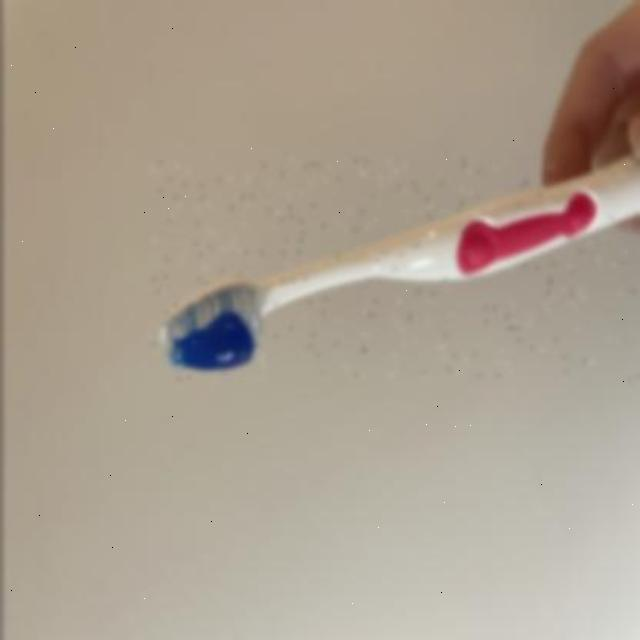toothbrush: (148, 160, 640, 382)
